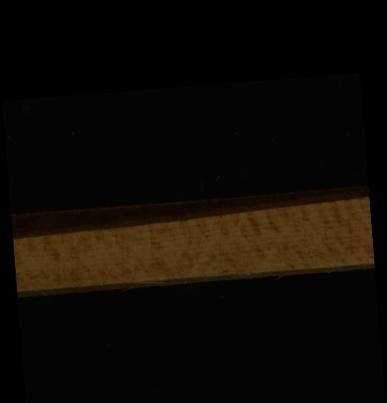wave: (10, 197, 367, 226)
